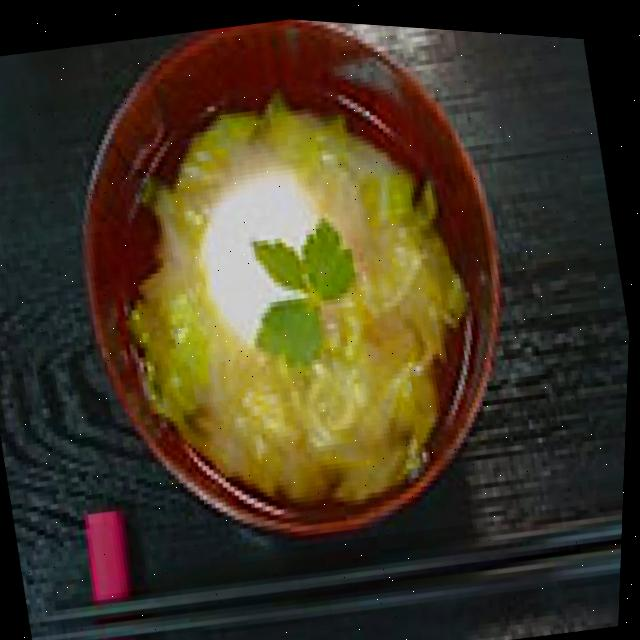汤锅炖物: (23, 2, 555, 579)
